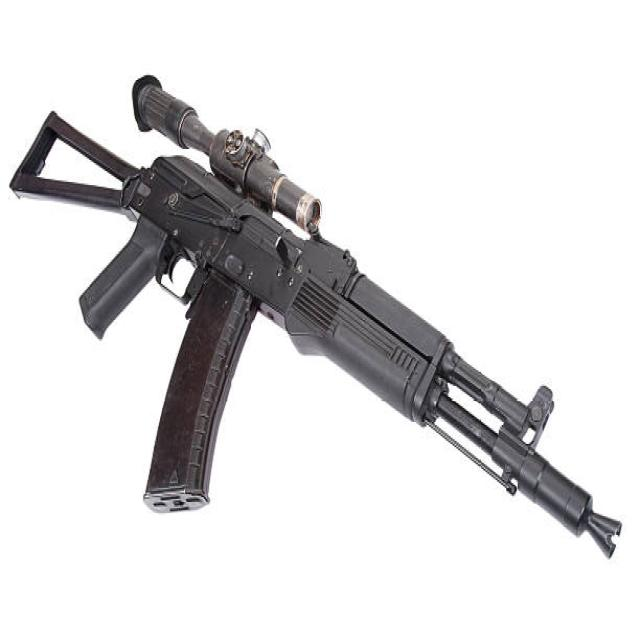rifle: (3, 52, 630, 562)
